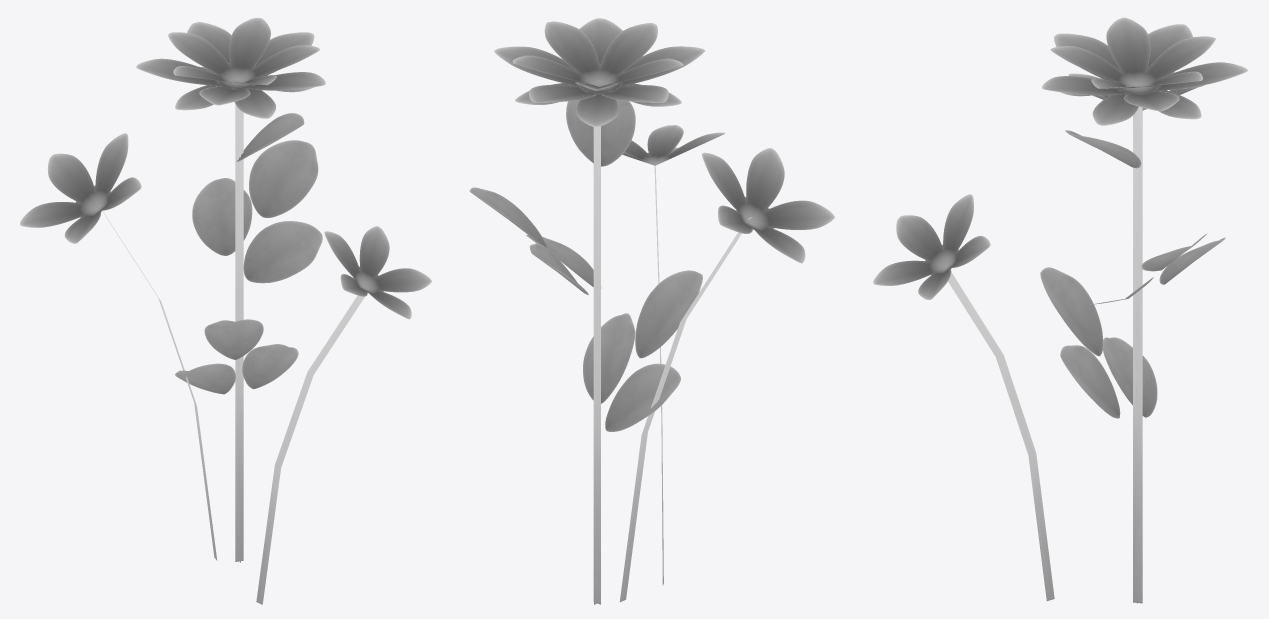
Rendered from SM_Flower_02.fbx.
The picture shows the model from 3 angles, left to right: view 1: azimuth 30°, elevation 25°; view 2: azimuth 150°, elevation 25°; view 3: azimuth 270°, elevation 25°; orthographic projection. The views are drawn at different scales.
Parts seen in each view (by area): view 1: SM_Flower_02_LOD0; view 2: SM_Flower_02_LOD0; view 3: SM_Flower_02_LOD0.
Boxes of the visible parts, x1,y1,x2,y2 form: SM_Flower_02_LOD0: (20,17,431,604); SM_Flower_02_LOD0: (469,18,834,604); SM_Flower_02_LOD0: (873,17,1247,603).
Size of what is drawn, in the model's own units: 0.5571 by 0.8965 by 0.5631.
